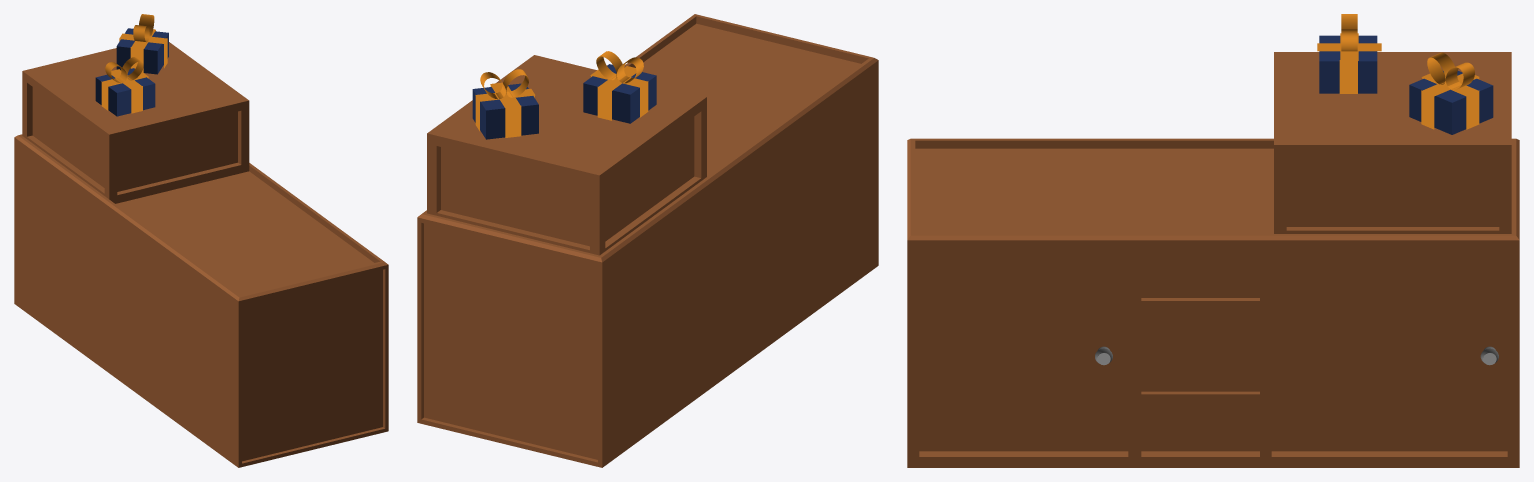
File: commode.fbx
3 views of the same model, side by side, from view 1: azimuth 30°, elevation 25°; view 2: azimuth 150°, elevation 25°; view 3: azimuth 270°, elevation 25° (orthographic). The views are drawn at different scales.
Parts seen in each view (by area): view 1: Box064; view 2: Box064; view 3: Box064.
Part boxes in pixels (x1,y1,x2,y2): Box064: (14, 14, 388, 467); Box064: (417, 14, 878, 467); Box064: (907, 14, 1519, 467).
Bounding box in the file's own units: 36.01 × 62.88 × 92.5.
